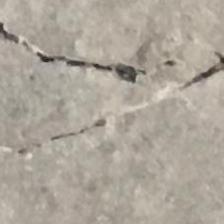Crack: (0, 7, 224, 126)
